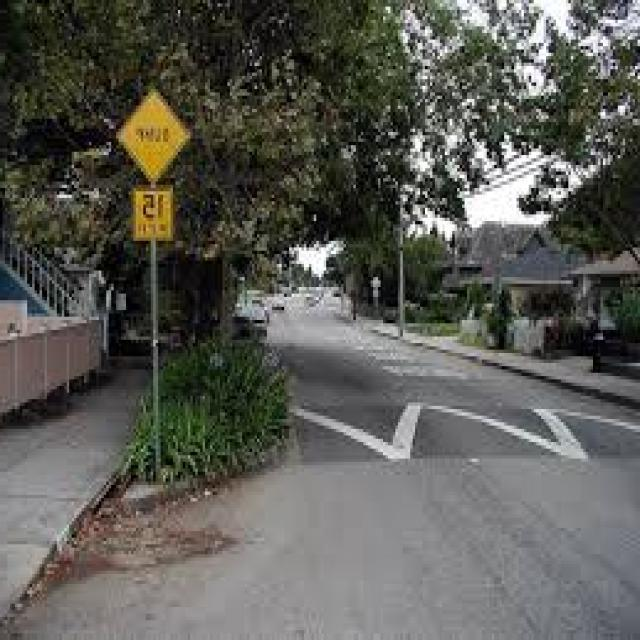speedbreaker: (285, 405, 631, 459)
